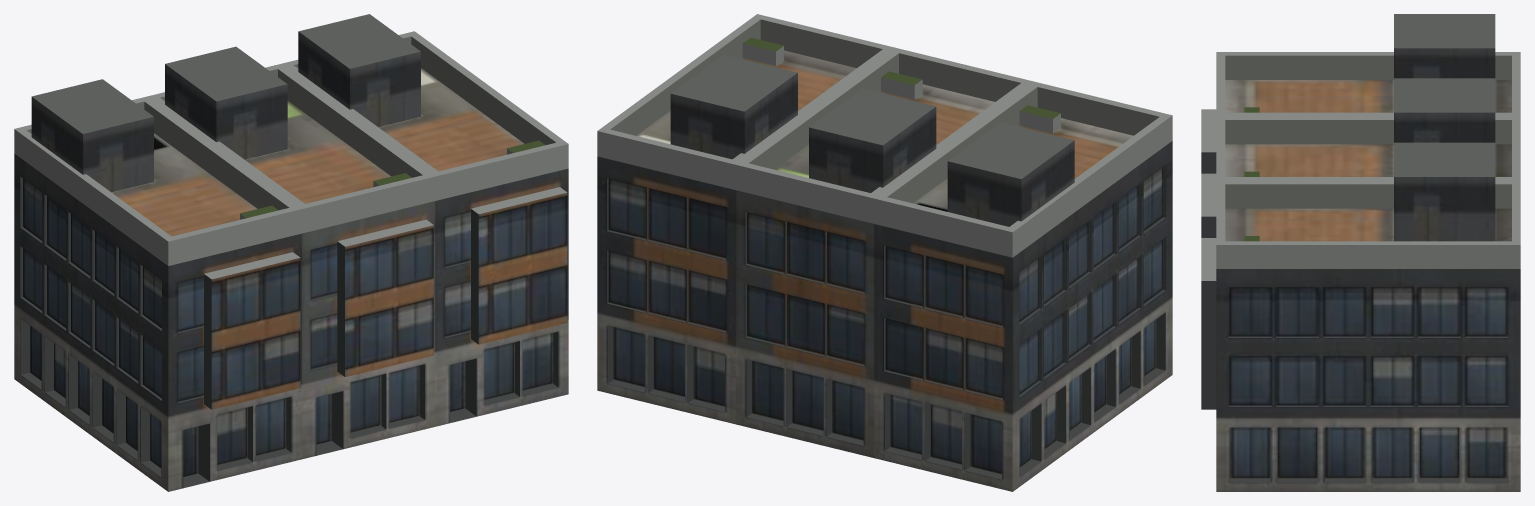
The model's file is seattle_house_d.glb.
3 renders of one model, left to right at view 1: azimuth 30°, elevation 25°; view 2: azimuth 150°, elevation 25°; view 3: azimuth 270°, elevation 25°, orthographic. The views are drawn at different scales.
Visible parts, largest first — view 1: seattle_house_d; view 2: seattle_house_d; view 3: seattle_house_d.
Part boxes in pixels (x1,y1,x2,y2): seattle_house_d: [14, 14, 568, 491]; seattle_house_d: [597, 14, 1172, 491]; seattle_house_d: [1201, 14, 1520, 491].
Size of the model in its own units: 18 by 12.5 by 12.6.
1 material, 1 textured.
